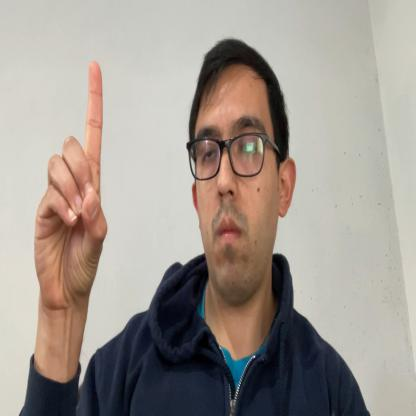D: (34, 60, 108, 311)
